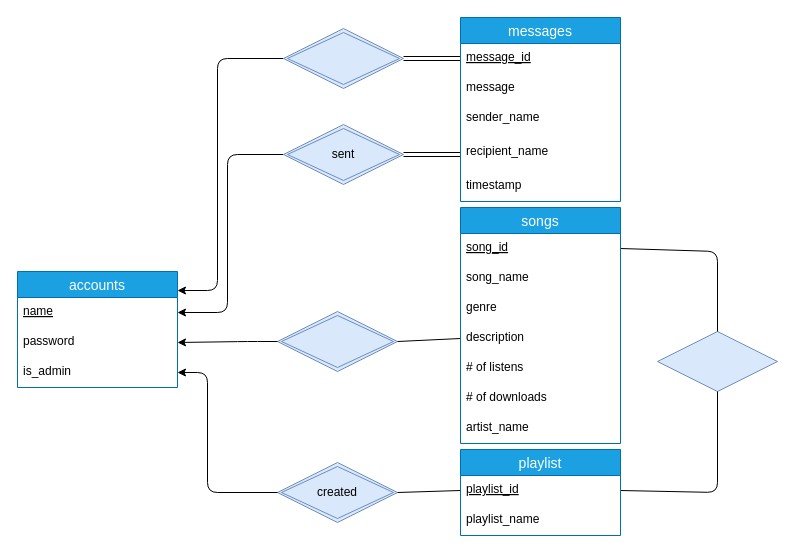
This 795x556 diagram has some shape labels left out. Here are the shapes that lost their labels. From the top down, the centre of each, then its label:
the point at 343,58: recieved
the point at 337,341: uploaded
the point at 717,361: contained
